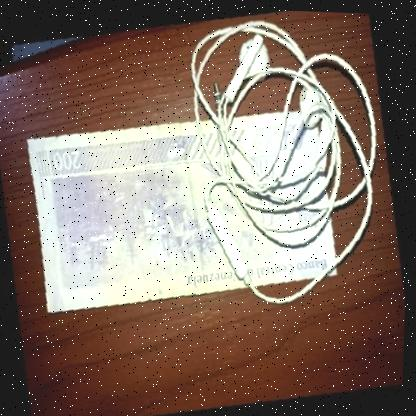two_hundred-back-vef: (6, 68, 357, 344)
